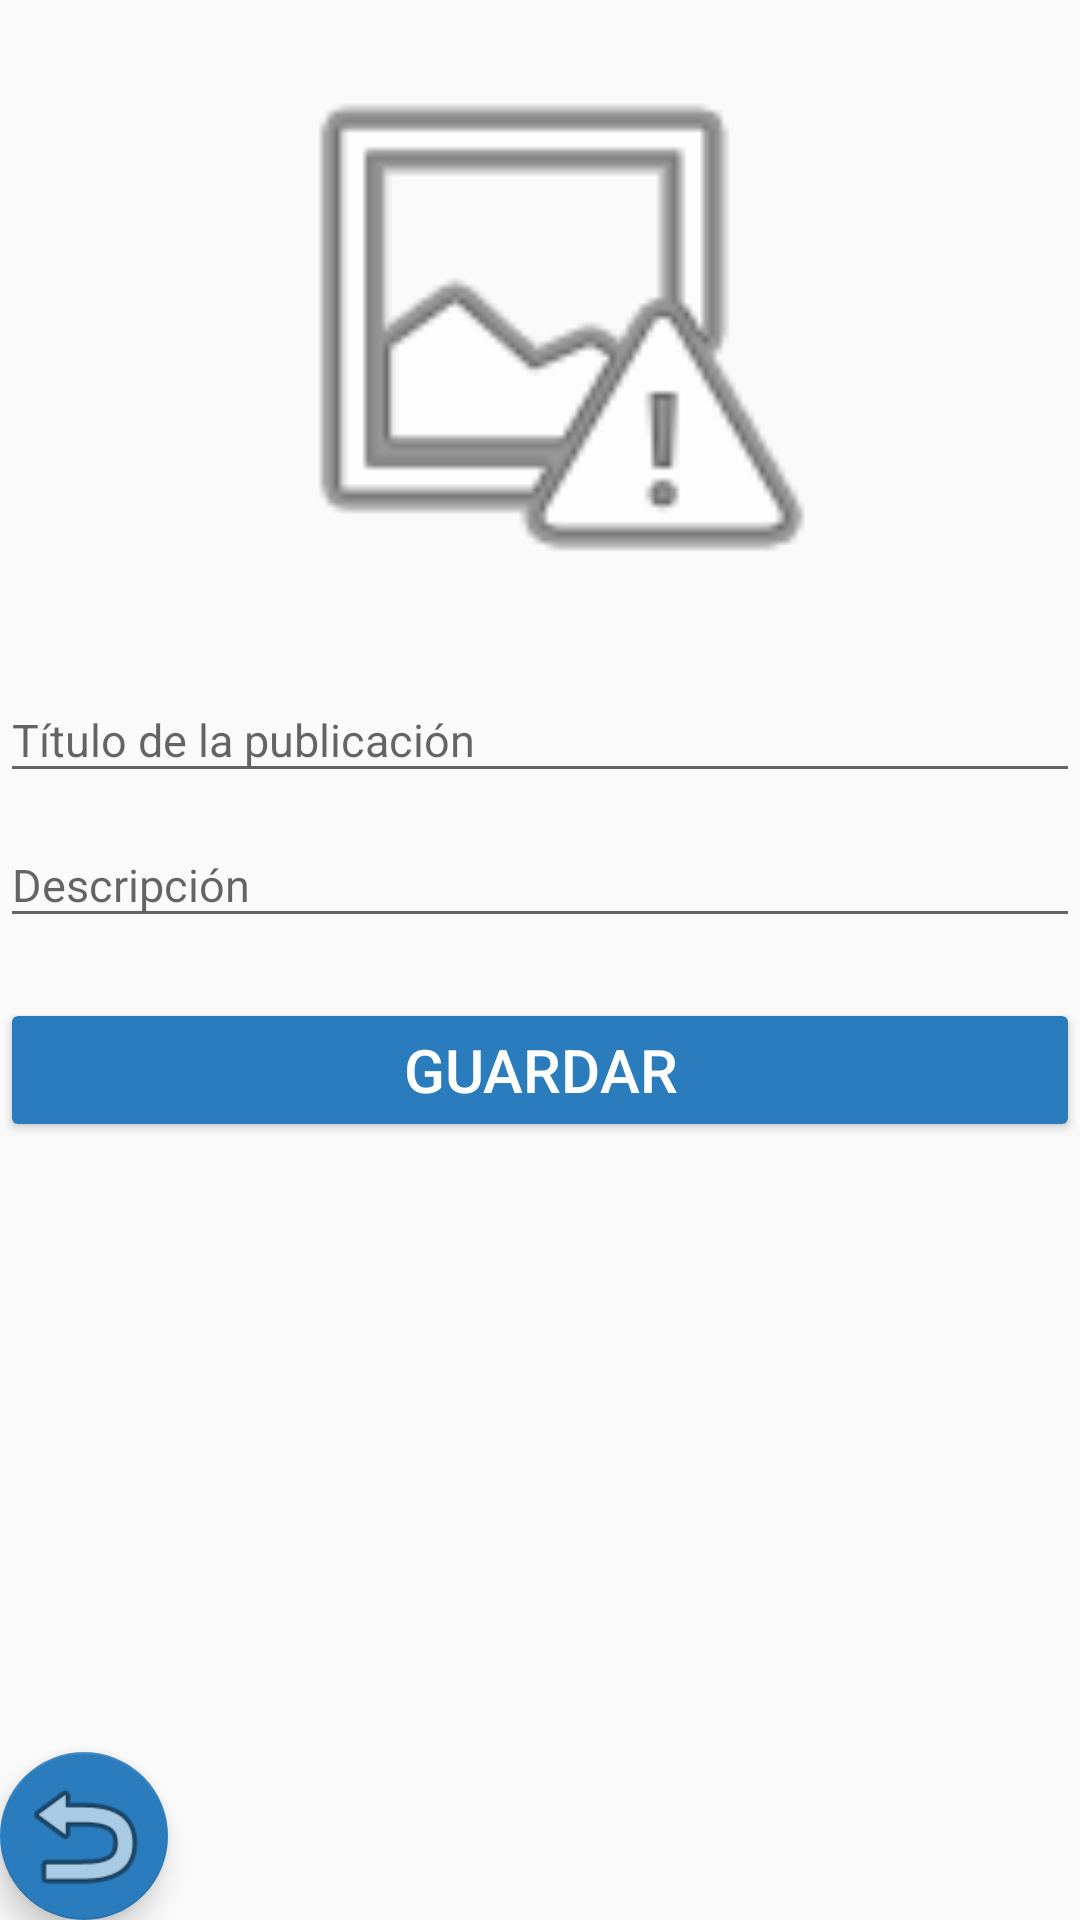

Icons on this 1080*1920 Android screen, each with the point to tap as point (x, y):
revert: point (84, 1836)
